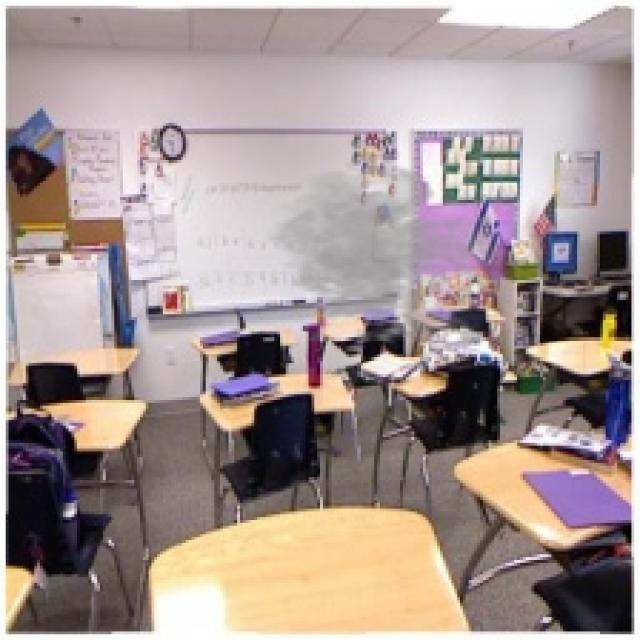smoke: (260, 149, 526, 354)
